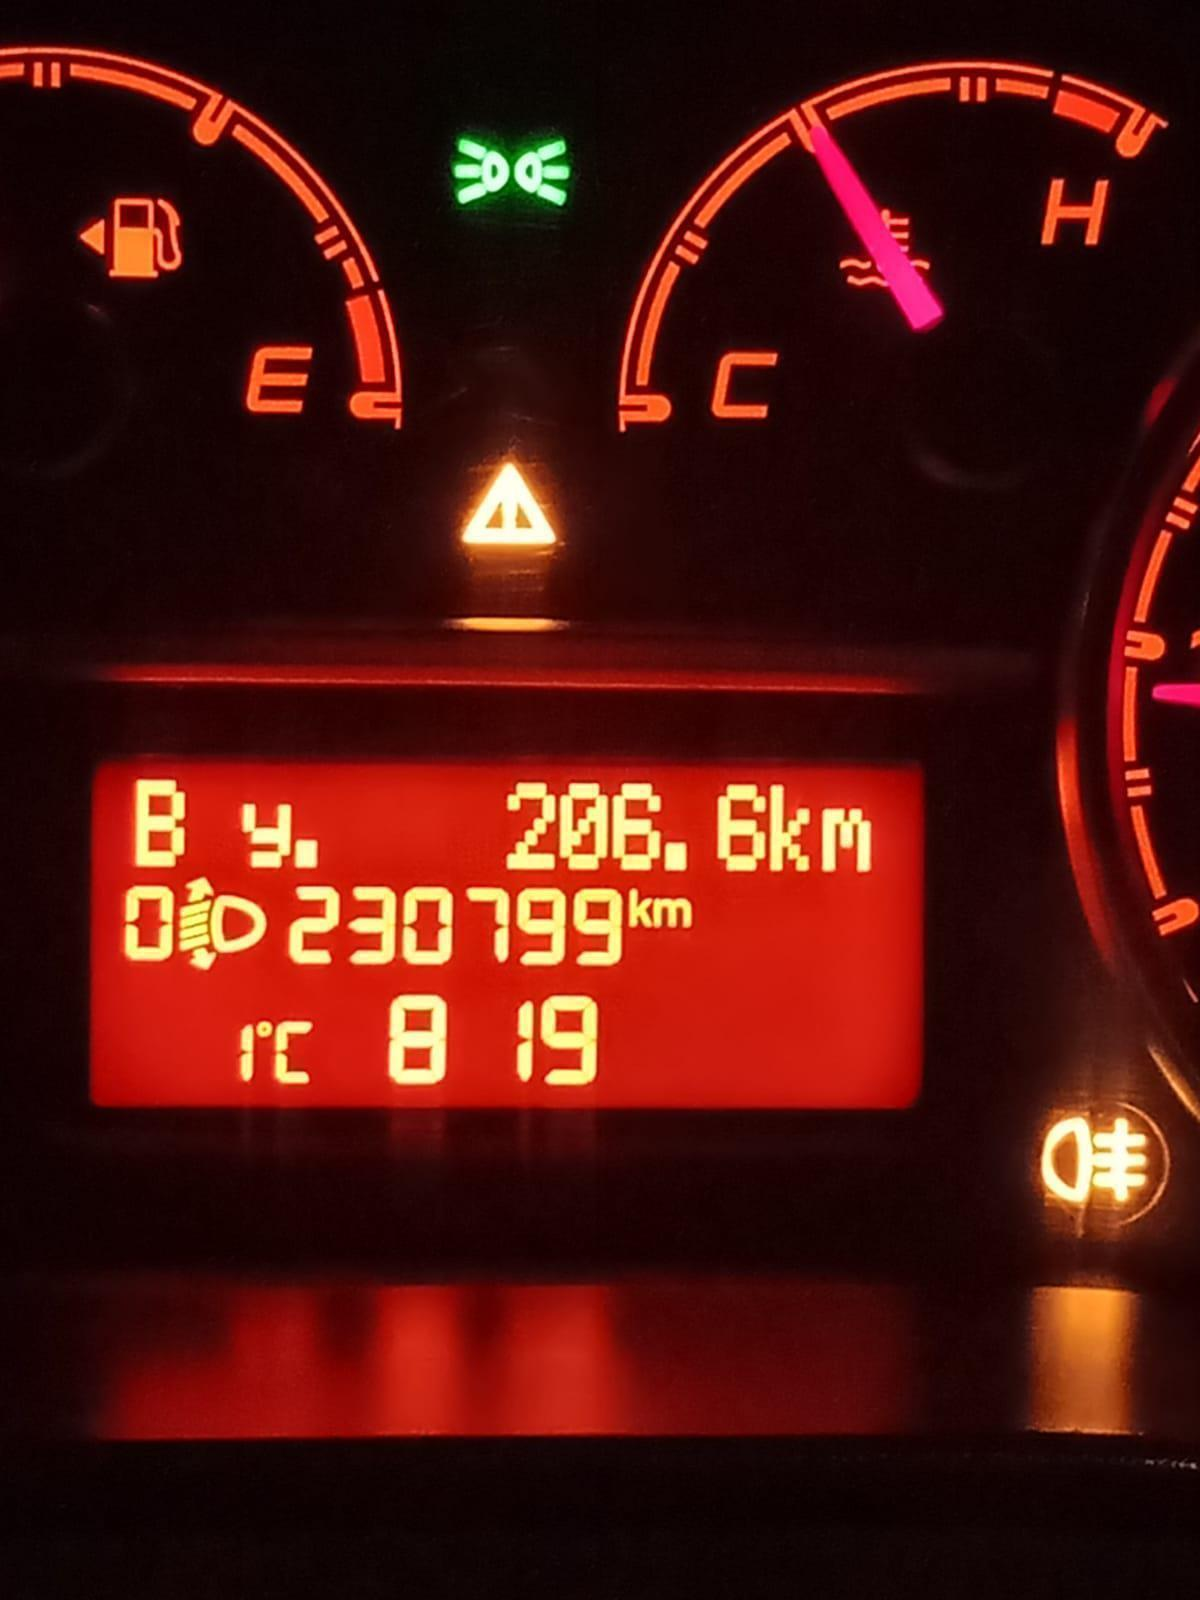,: (291, 837, 321, 871), (663, 838, 689, 874)
0: (557, 777, 611, 874), (400, 883, 458, 969), (118, 881, 175, 964)
1: (509, 997, 534, 1083), (234, 1018, 256, 1087)
2: (497, 776, 558, 873), (284, 882, 343, 965)
3: (342, 881, 400, 969)
6: (711, 779, 769, 874), (610, 779, 662, 874)
7: (464, 883, 512, 965)
8: (386, 991, 453, 1087)
9: (538, 991, 600, 1089), (568, 884, 626, 968), (514, 883, 568, 969)
X: (125, 774, 192, 872), (768, 779, 816, 877), (238, 797, 294, 872), (818, 805, 875, 877), (271, 1017, 315, 1086), (652, 894, 695, 932), (626, 888, 653, 930)
odometer: (78, 743, 938, 1123)
